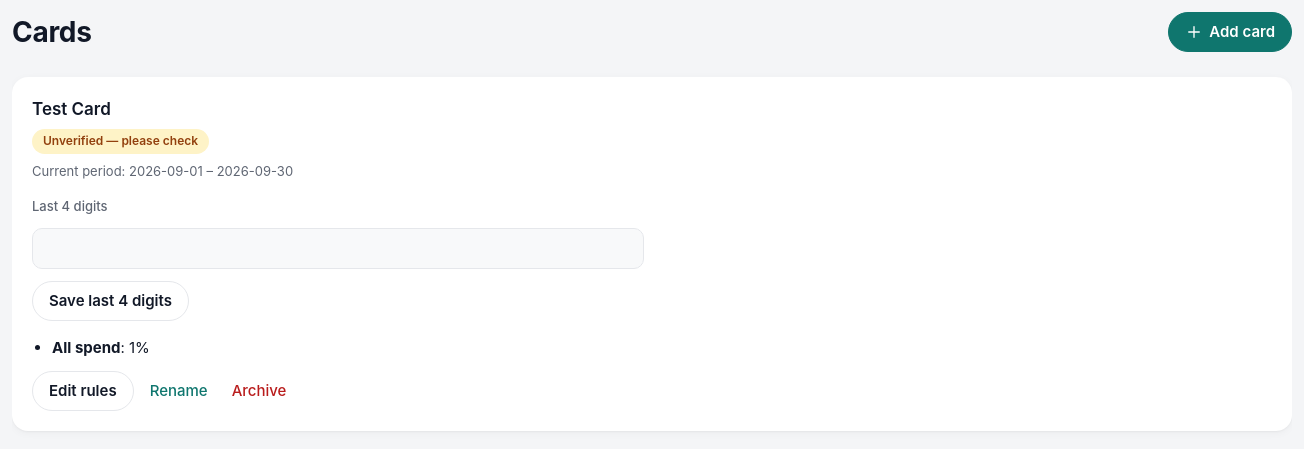
Test: CardsPage › archives a card after confirmation
Click the button "Archive" at point(259, 391), box [224,371,294,411]
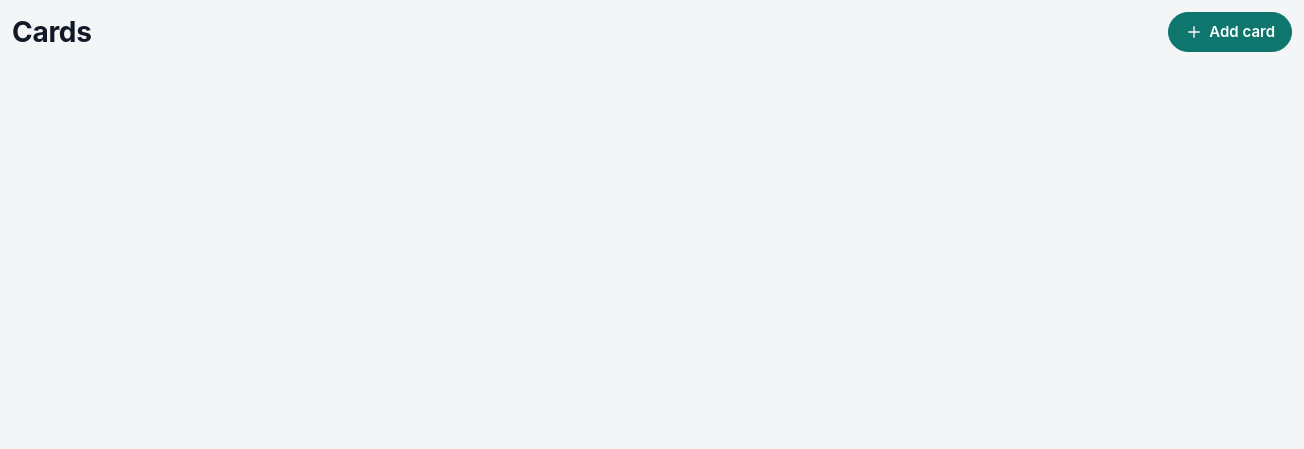
Result: the heading "Test Card" is gone
